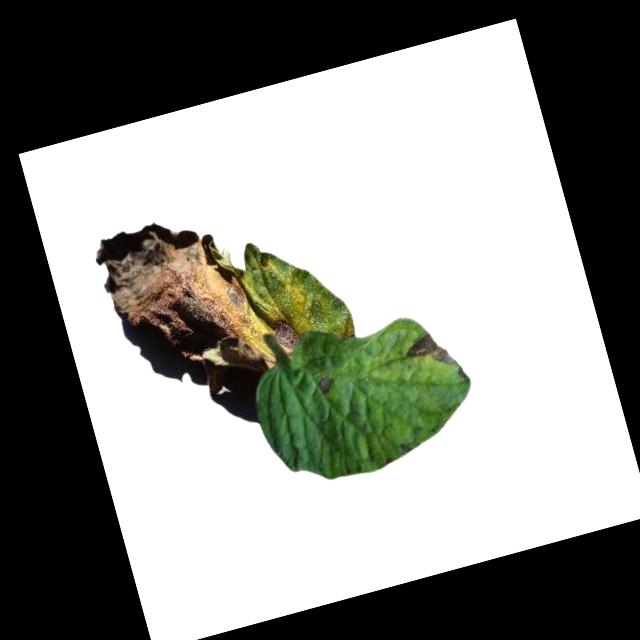Early_blight: (89, 179, 360, 404), (398, 324, 469, 393), (315, 376, 334, 397)
